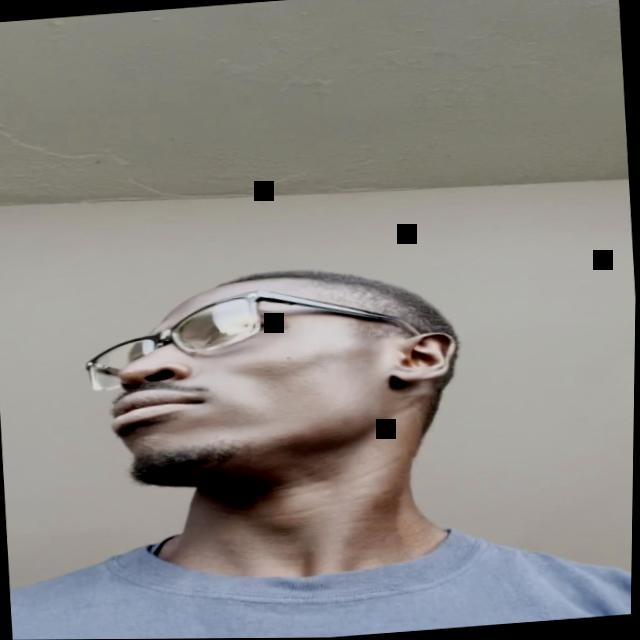NO-Mask: (69, 260, 441, 511)
